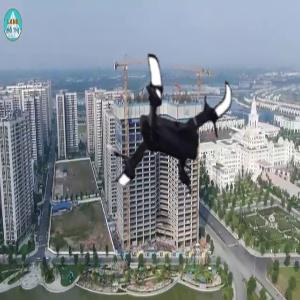drone: (84, 52, 250, 218)
